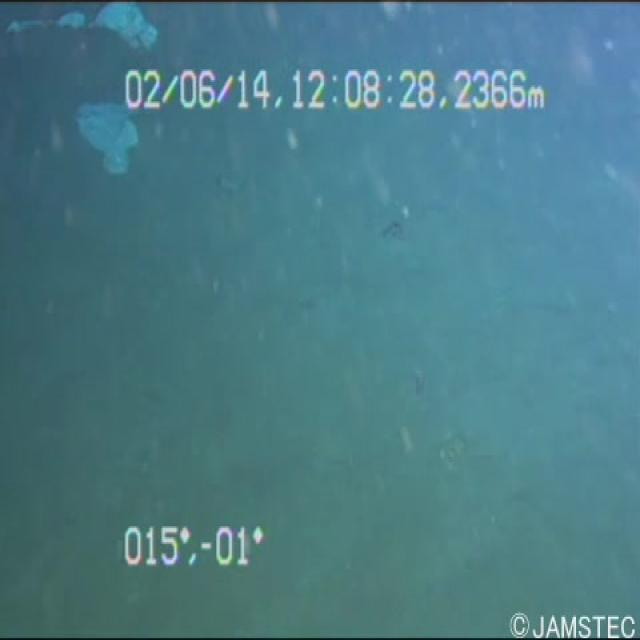plastic: (9, 3, 171, 73), (71, 77, 153, 183)
